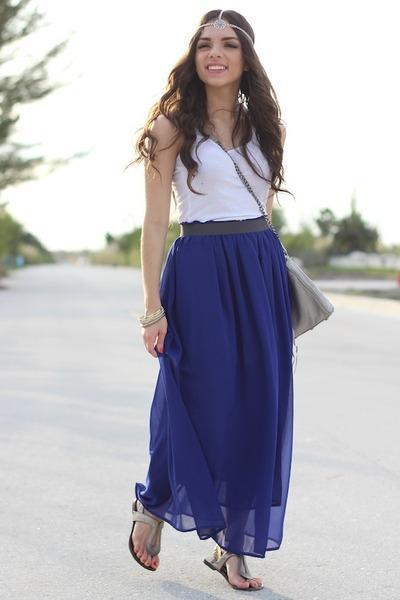bag: (285, 254, 336, 339)
shirt: (169, 113, 282, 223)
shoe: (129, 500, 263, 591)
skirt: (135, 216, 299, 563)
